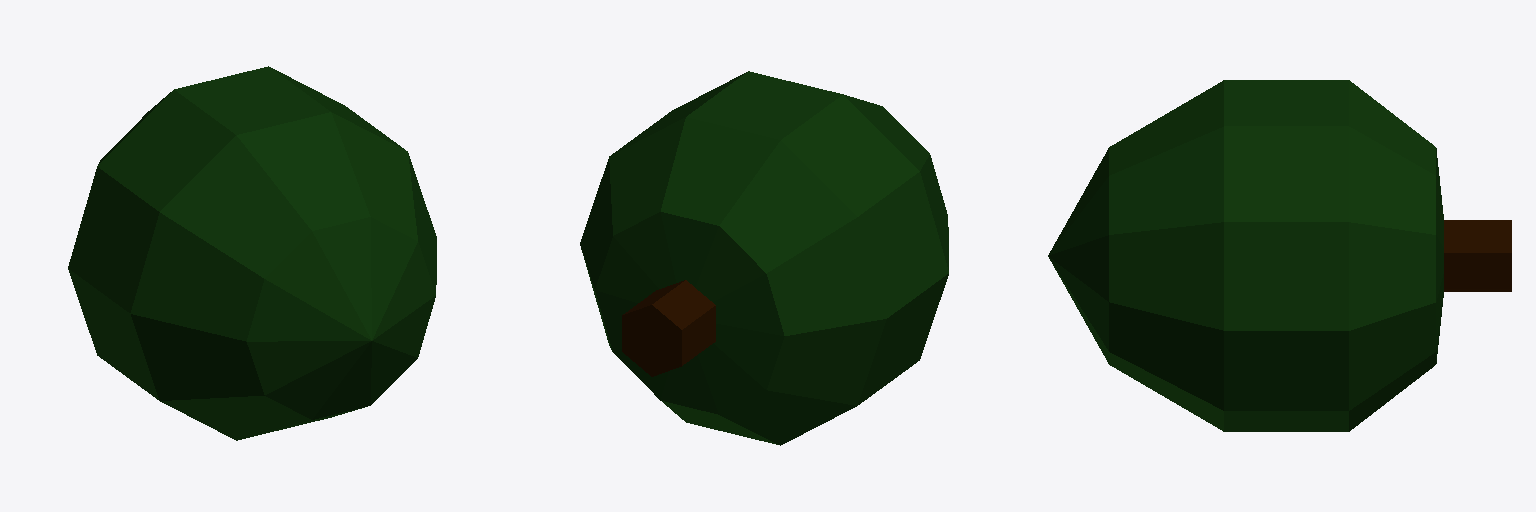
The model's file is tree.obj.
The picture shows the model from 3 angles: view 1: azimuth 30°, elevation 25°; view 2: azimuth 150°, elevation 25°; view 3: azimuth 270°, elevation 25°; orthographic projection.
Parts seen in each view (by area): view 1: tree.001; view 2: tree.001, foot.001; view 3: tree.001, foot.001.
Part boxes in pixels (x1,y1,x2,y2): tree.001: (68,66,436,440); tree.001: (580,71,948,445); foot.001: (622,280,715,376); tree.001: (1048,80,1443,431); foot.001: (1444,220,1511,291).
Size of the model in its own units: 0.9196 by 0.8745 by 1.2.